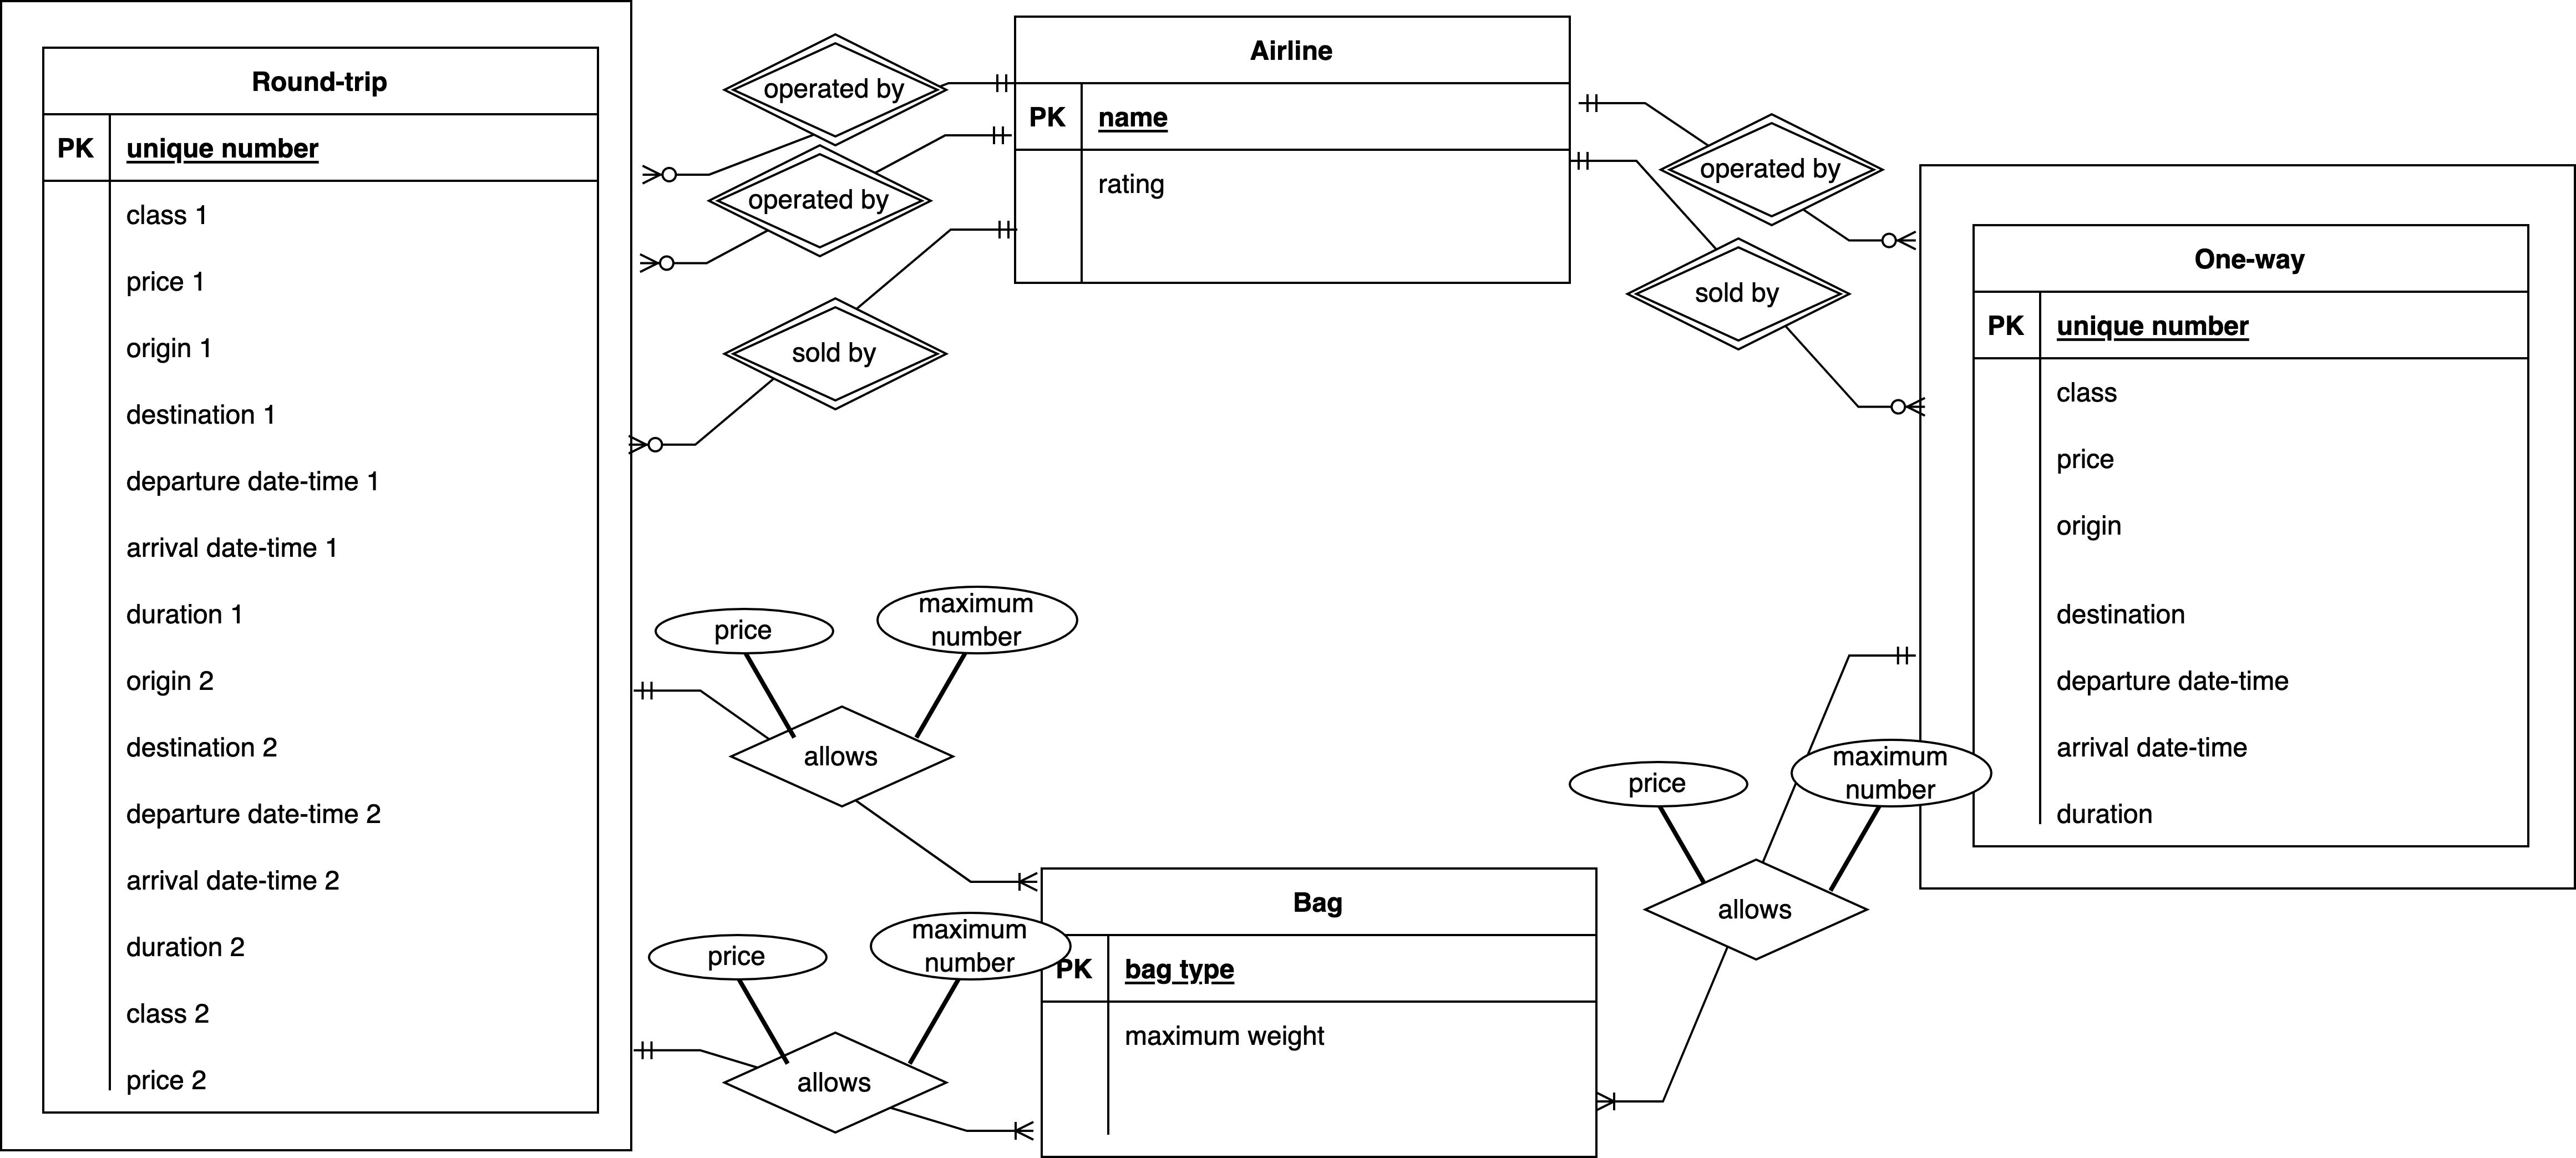attribute: (874, 585, 1076, 659), (1792, 739, 1993, 813), (867, 915, 1066, 981), (649, 931, 831, 982), (652, 611, 833, 662), (1569, 764, 1746, 811)
entity: (0, 0, 639, 1156), (1038, 861, 1600, 1158), (1005, 0, 1582, 286)
relationship: (723, 706, 950, 813), (724, 1030, 951, 1135), (1644, 857, 1868, 963)
weakentity: (1917, 161, 2576, 900)
weakrelationship: (723, 31, 948, 151), (698, 143, 931, 258), (1625, 241, 1853, 356), (718, 301, 948, 414), (1658, 115, 1881, 227)
